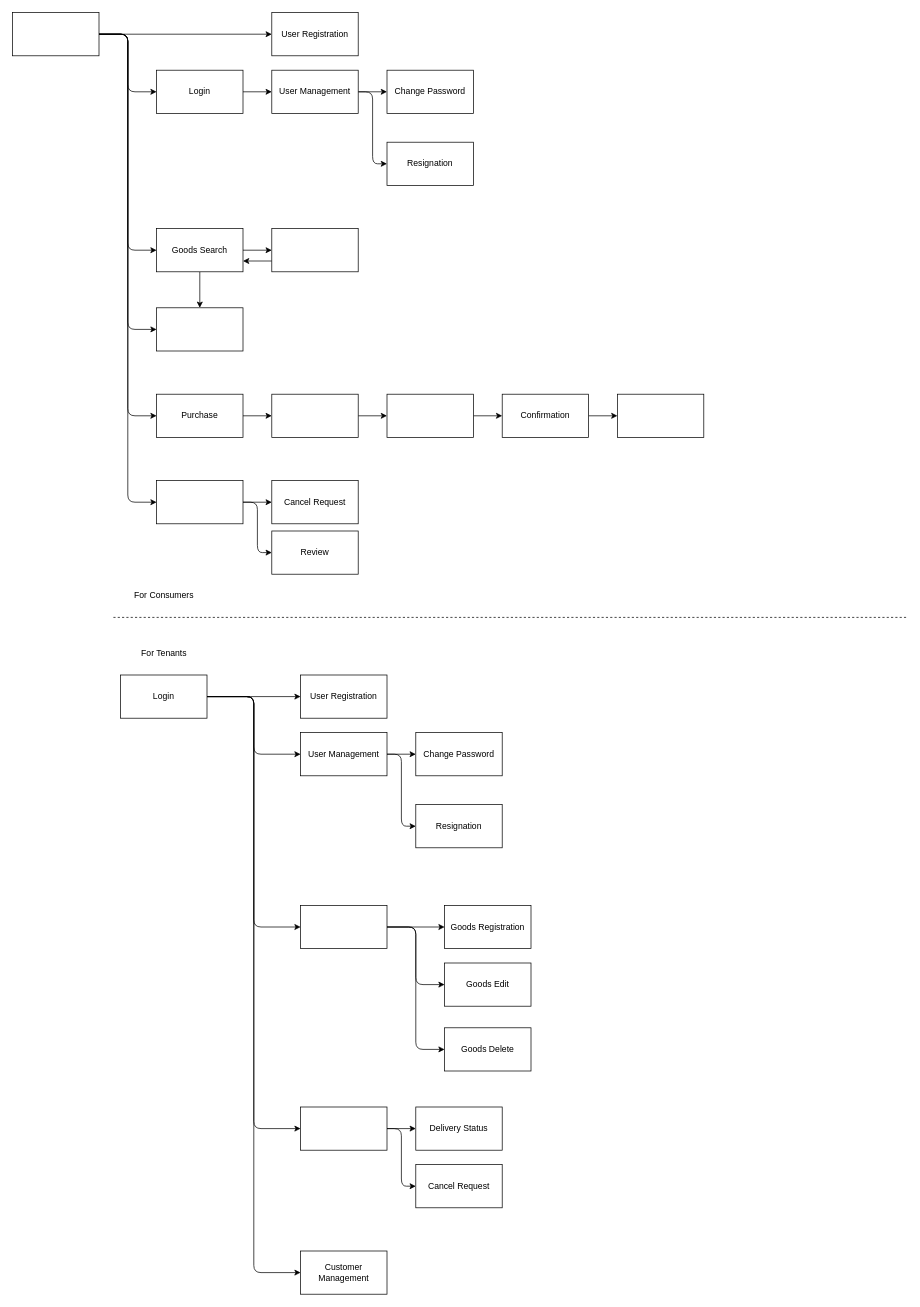
Some shapes in this 920 by 1307 pixel diagram are drawn without their labels. The box of each missing label's shape, as (x1, y1, x2, y2) in pixels:
Complete Order: (617, 393, 704, 437)
Goods Detail: (271, 228, 358, 272)
Goods Management: (300, 905, 387, 949)
Order Management: (300, 1106, 387, 1150)
Orders: (156, 480, 243, 524)
Payment: (386, 393, 473, 437)
Top Page: (12, 12, 99, 56)
Trolly: (156, 307, 243, 351)
User Information: (271, 393, 358, 437)
